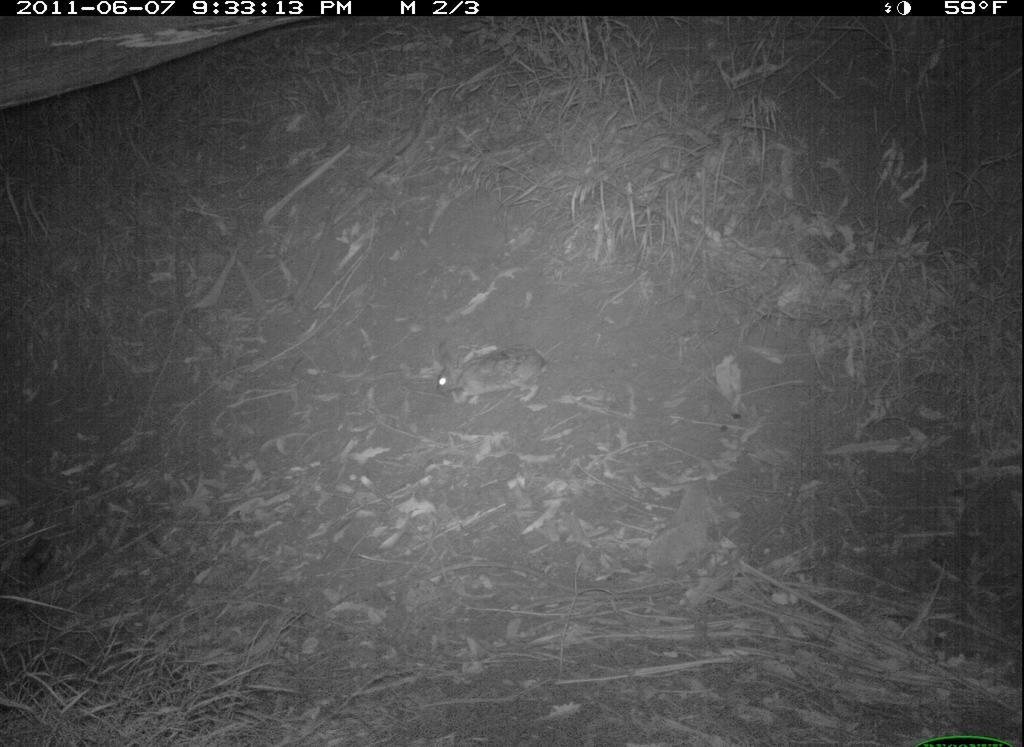rabbit: (413, 329, 577, 419)
